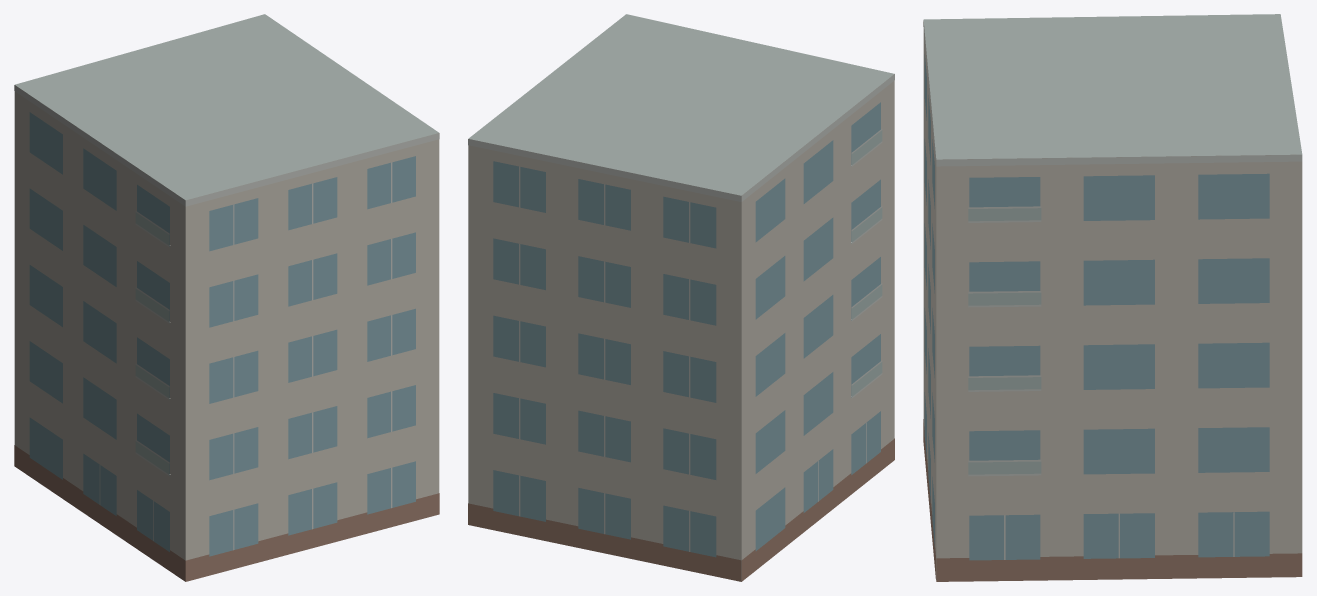
The model's file is survey-upis-32968028.glb.
The picture shows the model from 3 angles, left to right: view 1: azimuth 30°, elevation 25°; view 2: azimuth 150°, elevation 25°; view 3: azimuth 270°, elevation 25°; orthographic projection. The views are drawn at different scales.
Parts seen in each view (by area): view 1: survey-upis-32968028.tmp; view 2: survey-upis-32968028.tmp; view 3: survey-upis-32968028.tmp.
Boxes of the visible parts, box(x1,y1,x2,y2) form: survey-upis-32968028.tmp: box(14, 14, 439, 581); survey-upis-32968028.tmp: box(468, 14, 894, 581); survey-upis-32968028.tmp: box(923, 14, 1302, 581).
Bounding box in the file's own units: 10.87 × 14.7 × 11.96.
